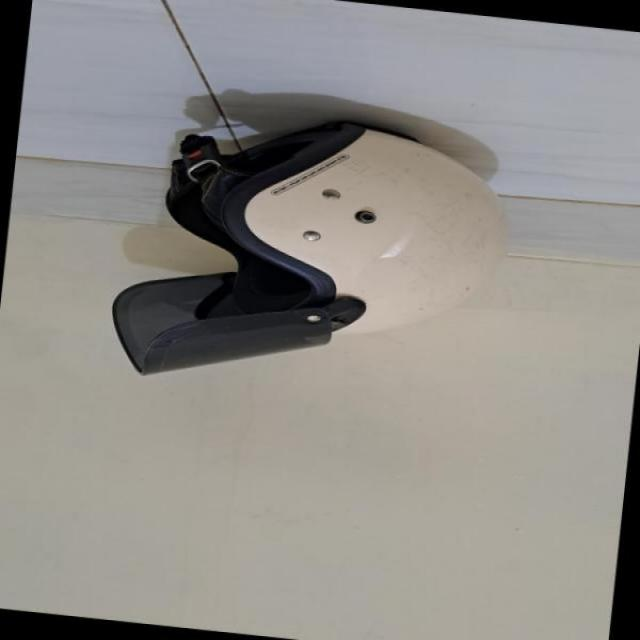Helmet: (120, 99, 514, 372)
